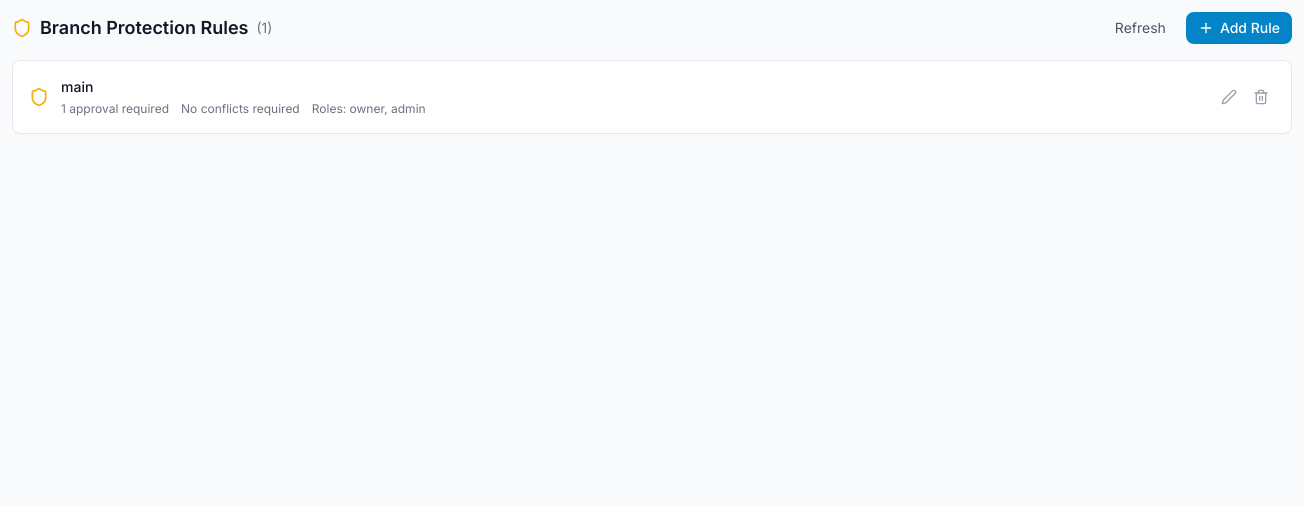
Scenario: BranchProtectionSettings › opens create form when "Add Rule" is clicked
The image size is (1304, 506).
Click the button "Add Rule": (1239, 28) [1186, 12, 1292, 44]
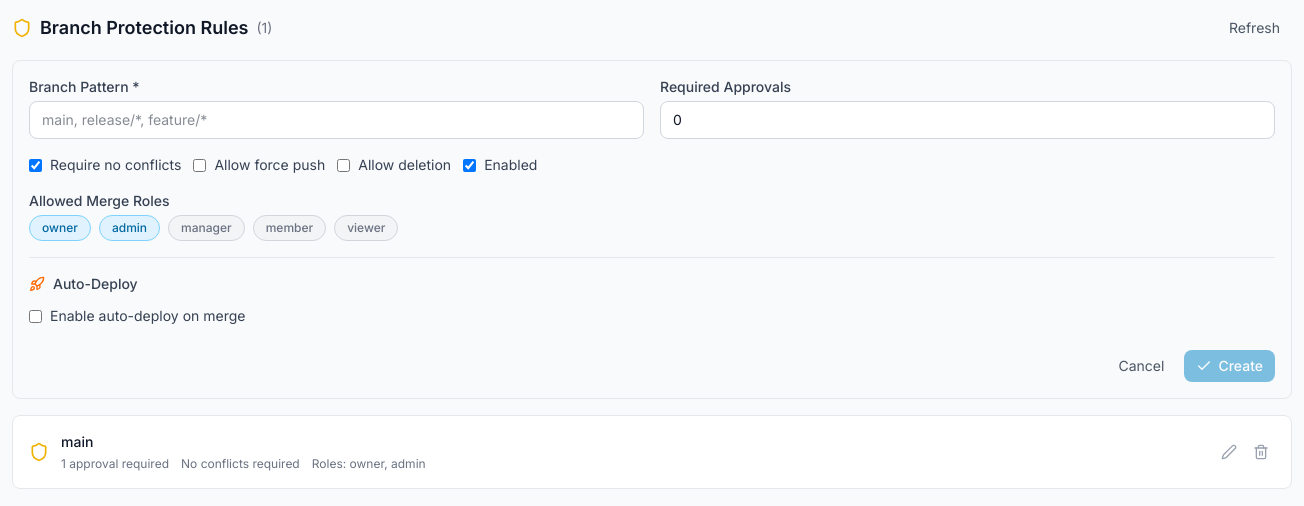
Check: the text "Branch Pattern *" is shown, box [29, 78, 140, 95]
Check: the text "Required Approvals" is shown, box [660, 78, 791, 95]
